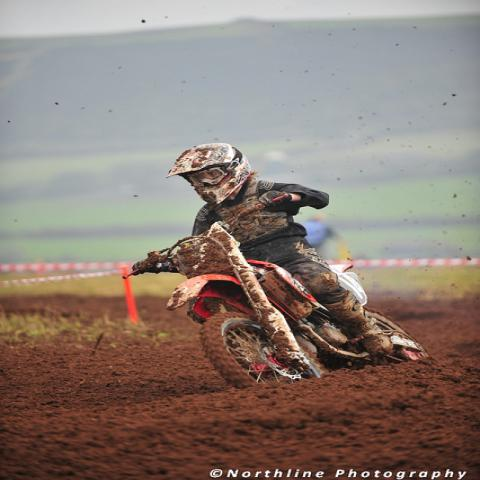motorcycle: (131, 193, 434, 386)
